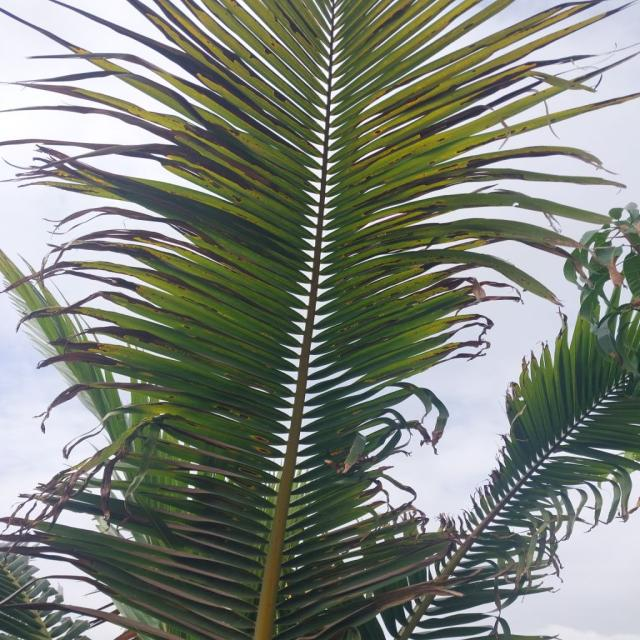leaf rot: (15, 0, 593, 540)
